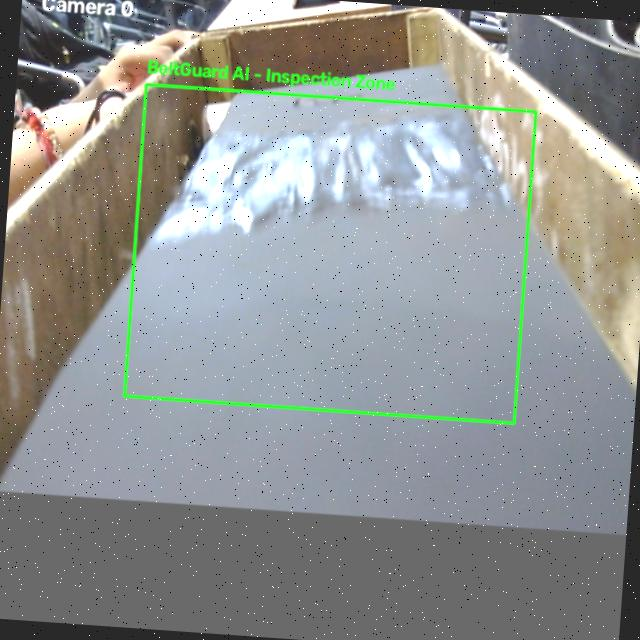Joint_Damage: (175, 115, 512, 232)
